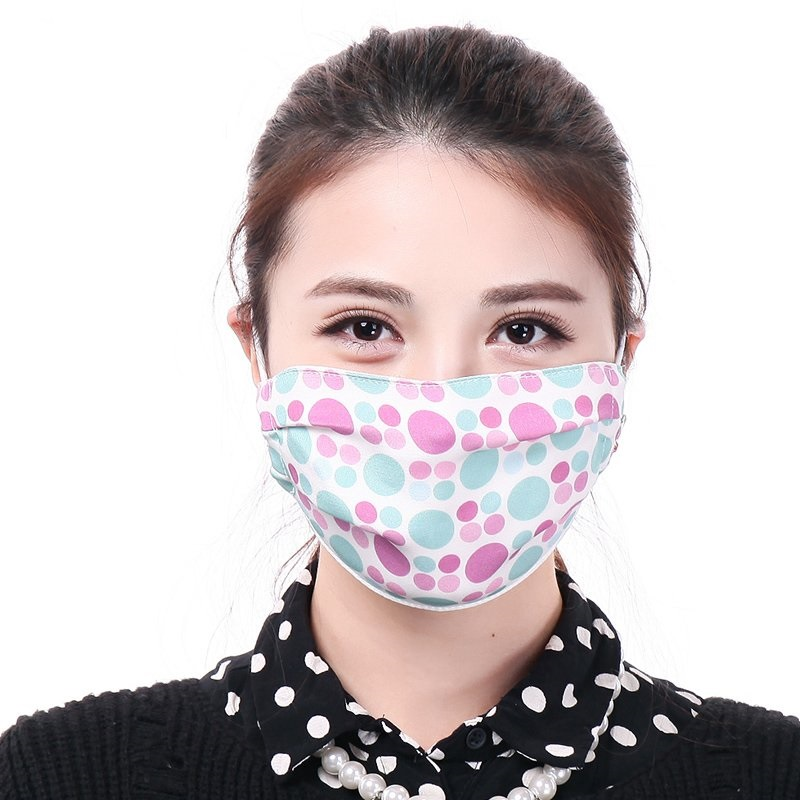face_mask: (267, 150, 616, 598)
